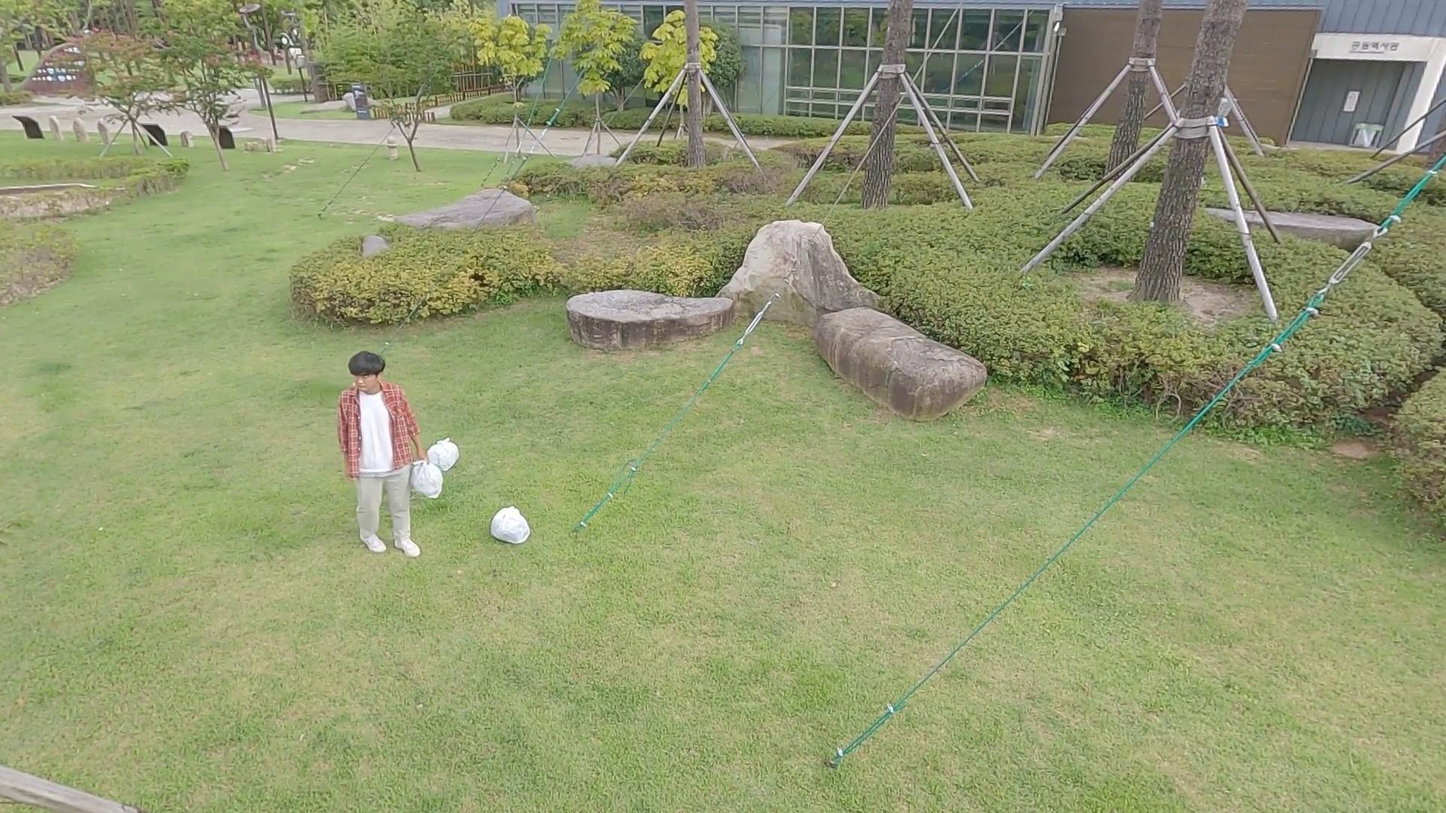person: (335, 351, 425, 559)
trash: (489, 504, 531, 544), (409, 458, 444, 499), (425, 437, 459, 471)
